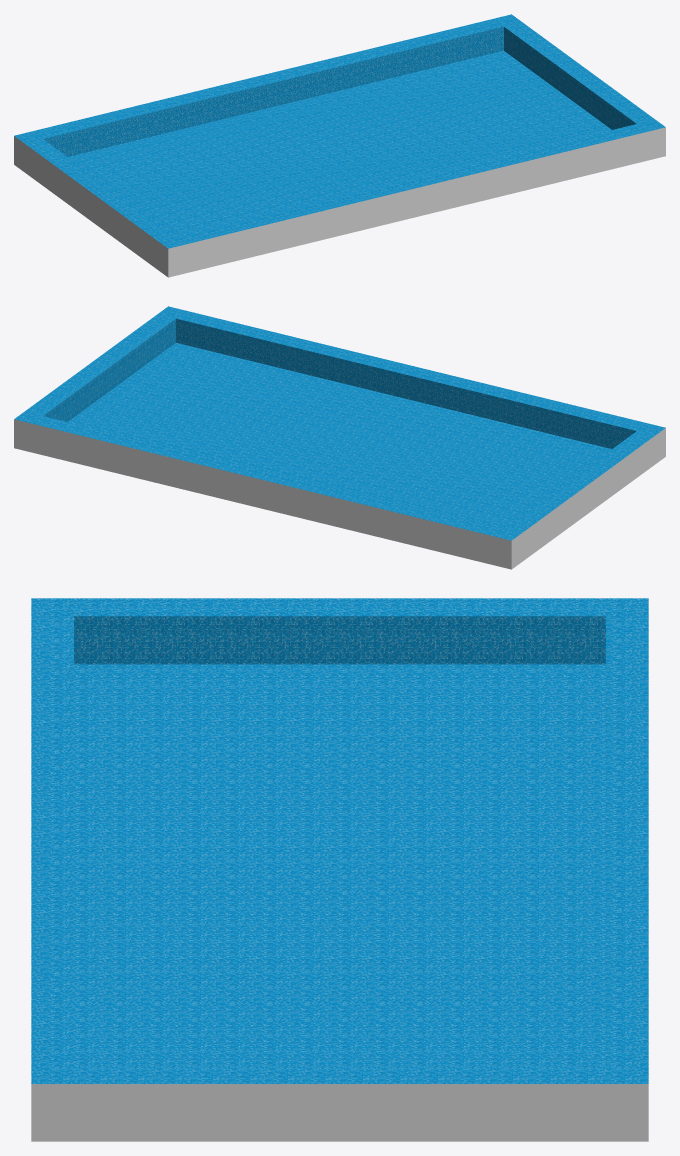
The model's file is olympic_pool.dae.
3 renders of one model, top to bottom at view 1: azimuth 30°, elevation 25°; view 2: azimuth 150°, elevation 25°; view 3: azimuth 270°, elevation 25°, orthographic. The views are drawn at different scales.
Visible parts, largest first — view 1: olympic_swimming_pool; view 2: olympic_swimming_pool; view 3: olympic_swimming_pool.
Boxes of the visible parts, <box> form: olympic_swimming_pool: <box>14,14,665,277</box>; olympic_swimming_pool: <box>14,306,665,569</box>; olympic_swimming_pool: <box>31,598,648,1141</box>.
Bounding box in the file's own units: 54 × 29 × 3.
2 materials, 1 textured.
